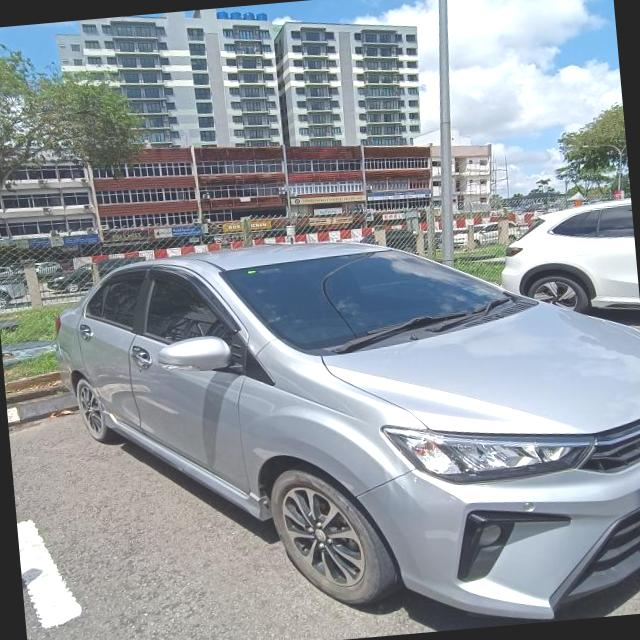PeroduaBezza: (45, 210, 640, 640)
